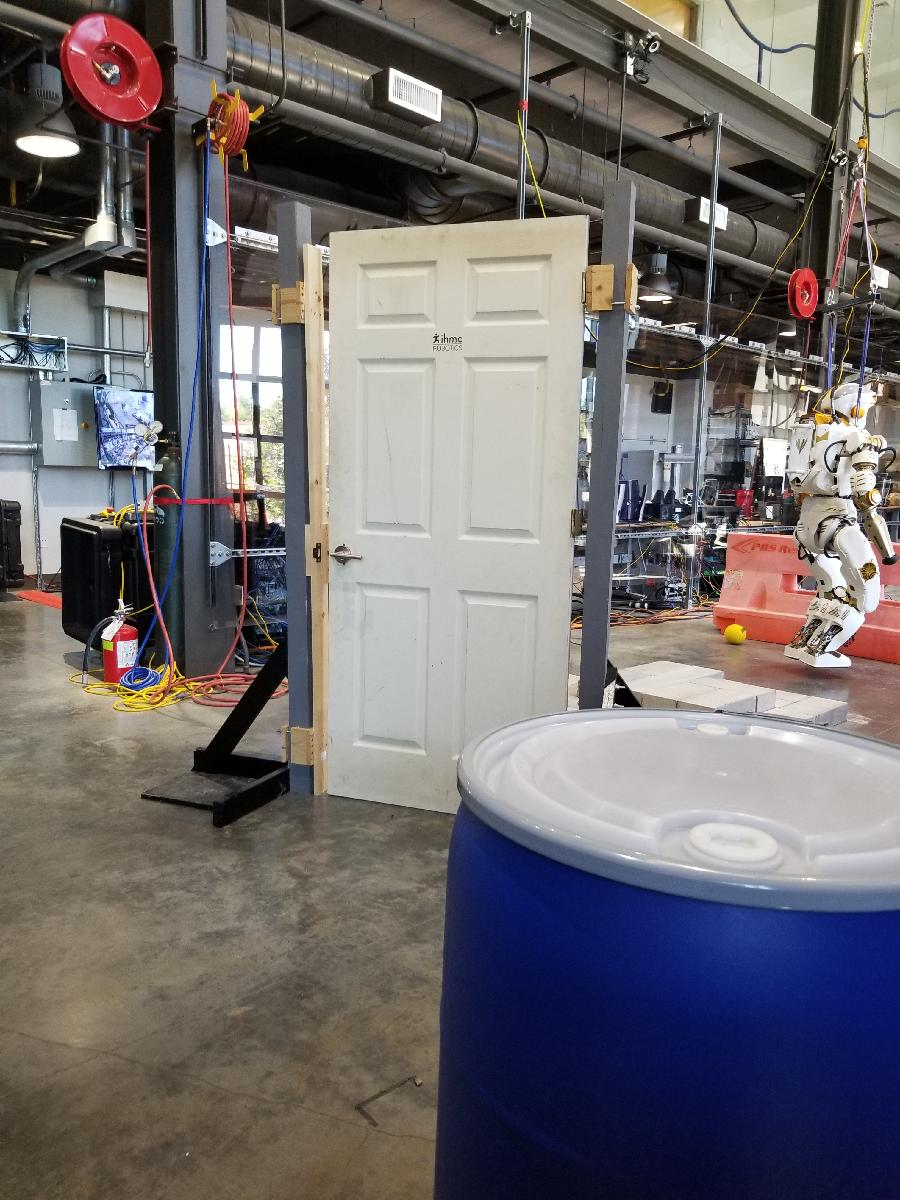door: (324, 213, 589, 833)
doorHandle: (325, 544, 364, 574)
